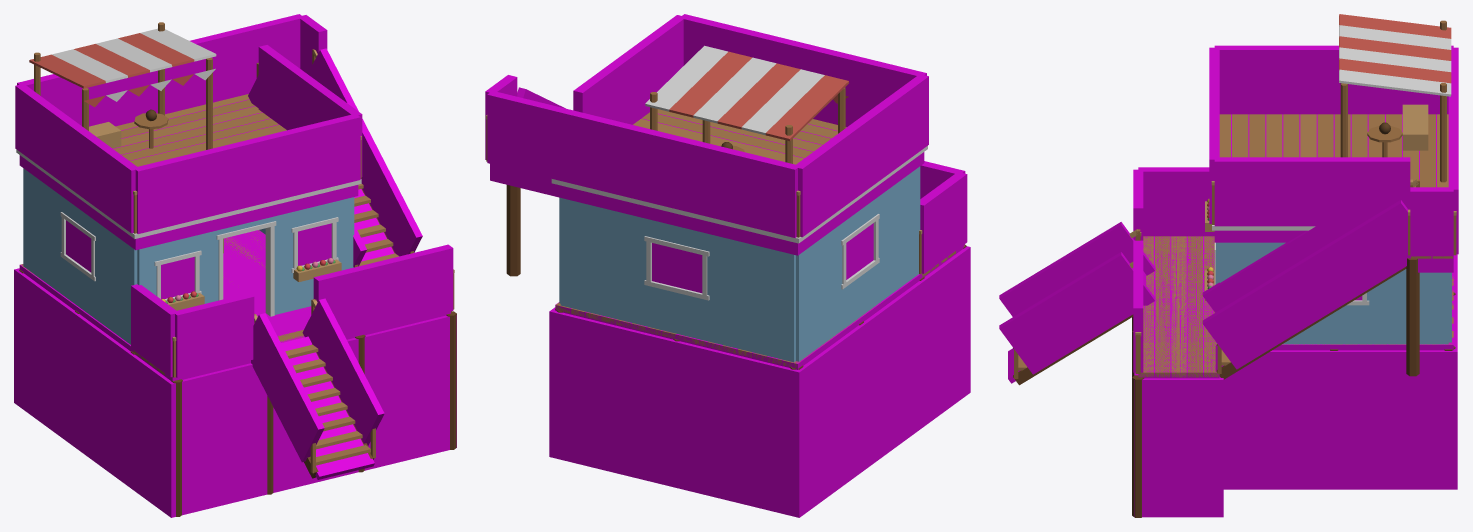
Rendered from stilt_house_a.glb.
3 views of the same model, side by side, from view 1: azimuth 30°, elevation 25°; view 2: azimuth 150°, elevation 25°; view 3: azimuth 270°, elevation 25° (orthographic). The views are drawn at different scales.
Visible parts, largest first — view 1: COLP_stilt_house_a, stilt_house_a, COL_stilt_house_a; view 2: COLP_stilt_house_a, stilt_house_a, COL_stilt_house_a; view 3: COLP_stilt_house_a, stilt_house_a, COL_stilt_house_a.
Part boxes in pixels (x1,y1,x2,y2): COLP_stilt_house_a: (14, 14, 456, 517); stilt_house_a: (16, 22, 456, 516); COL_stilt_house_a: (19, 99, 450, 479); COLP_stilt_house_a: (485, 14, 970, 517); stilt_house_a: (485, 45, 966, 369); COL_stilt_house_a: (490, 113, 964, 369); COLP_stilt_house_a: (999, 45, 1458, 517); stilt_house_a: (1013, 14, 1456, 517); COL_stilt_house_a: (1008, 114, 1453, 383).
Bounding box in the file's own units: 6.8 × 7.94 × 9.03.
